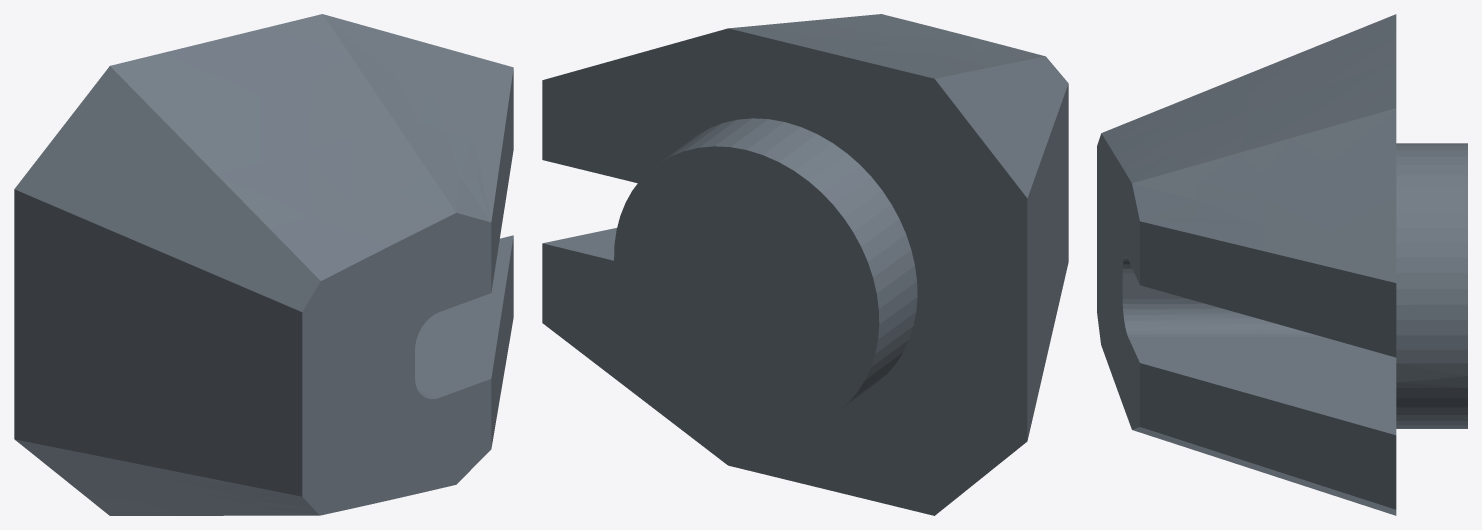
File: turret_pan.obj
The picture shows the model from 3 angles, left to right: view 1: azimuth 30°, elevation 25°; view 2: azimuth 150°, elevation 25°; view 3: azimuth 270°, elevation 25°; orthographic projection. The views are drawn at different scales.
Visible parts, largest first — view 1: heybeliada_gun_kaporta.obj; view 2: heybeliada_gun_kaporta.obj; view 3: heybeliada_gun_kaporta.obj.
Part boxes in pixels (bbox=[...]): heybeliada_gun_kaporta.obj: bbox=[14, 14, 513, 515]; heybeliada_gun_kaporta.obj: bbox=[542, 14, 1068, 515]; heybeliada_gun_kaporta.obj: bbox=[1097, 14, 1467, 515].
Bounding box in the file's own units: 3.66 × 3.15 × 2.6.
